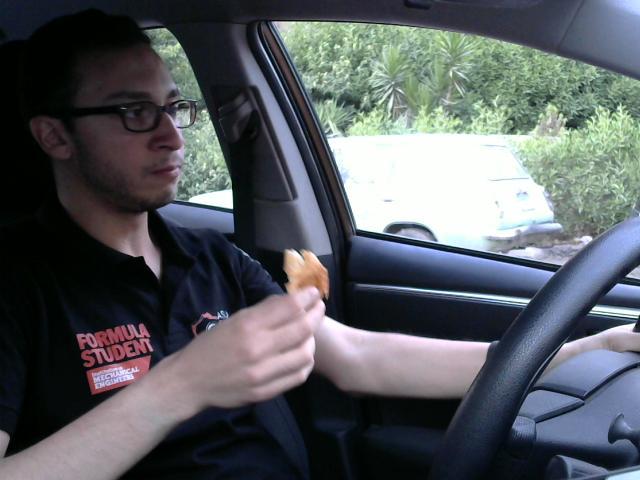Eating: (278, 242, 332, 309)
